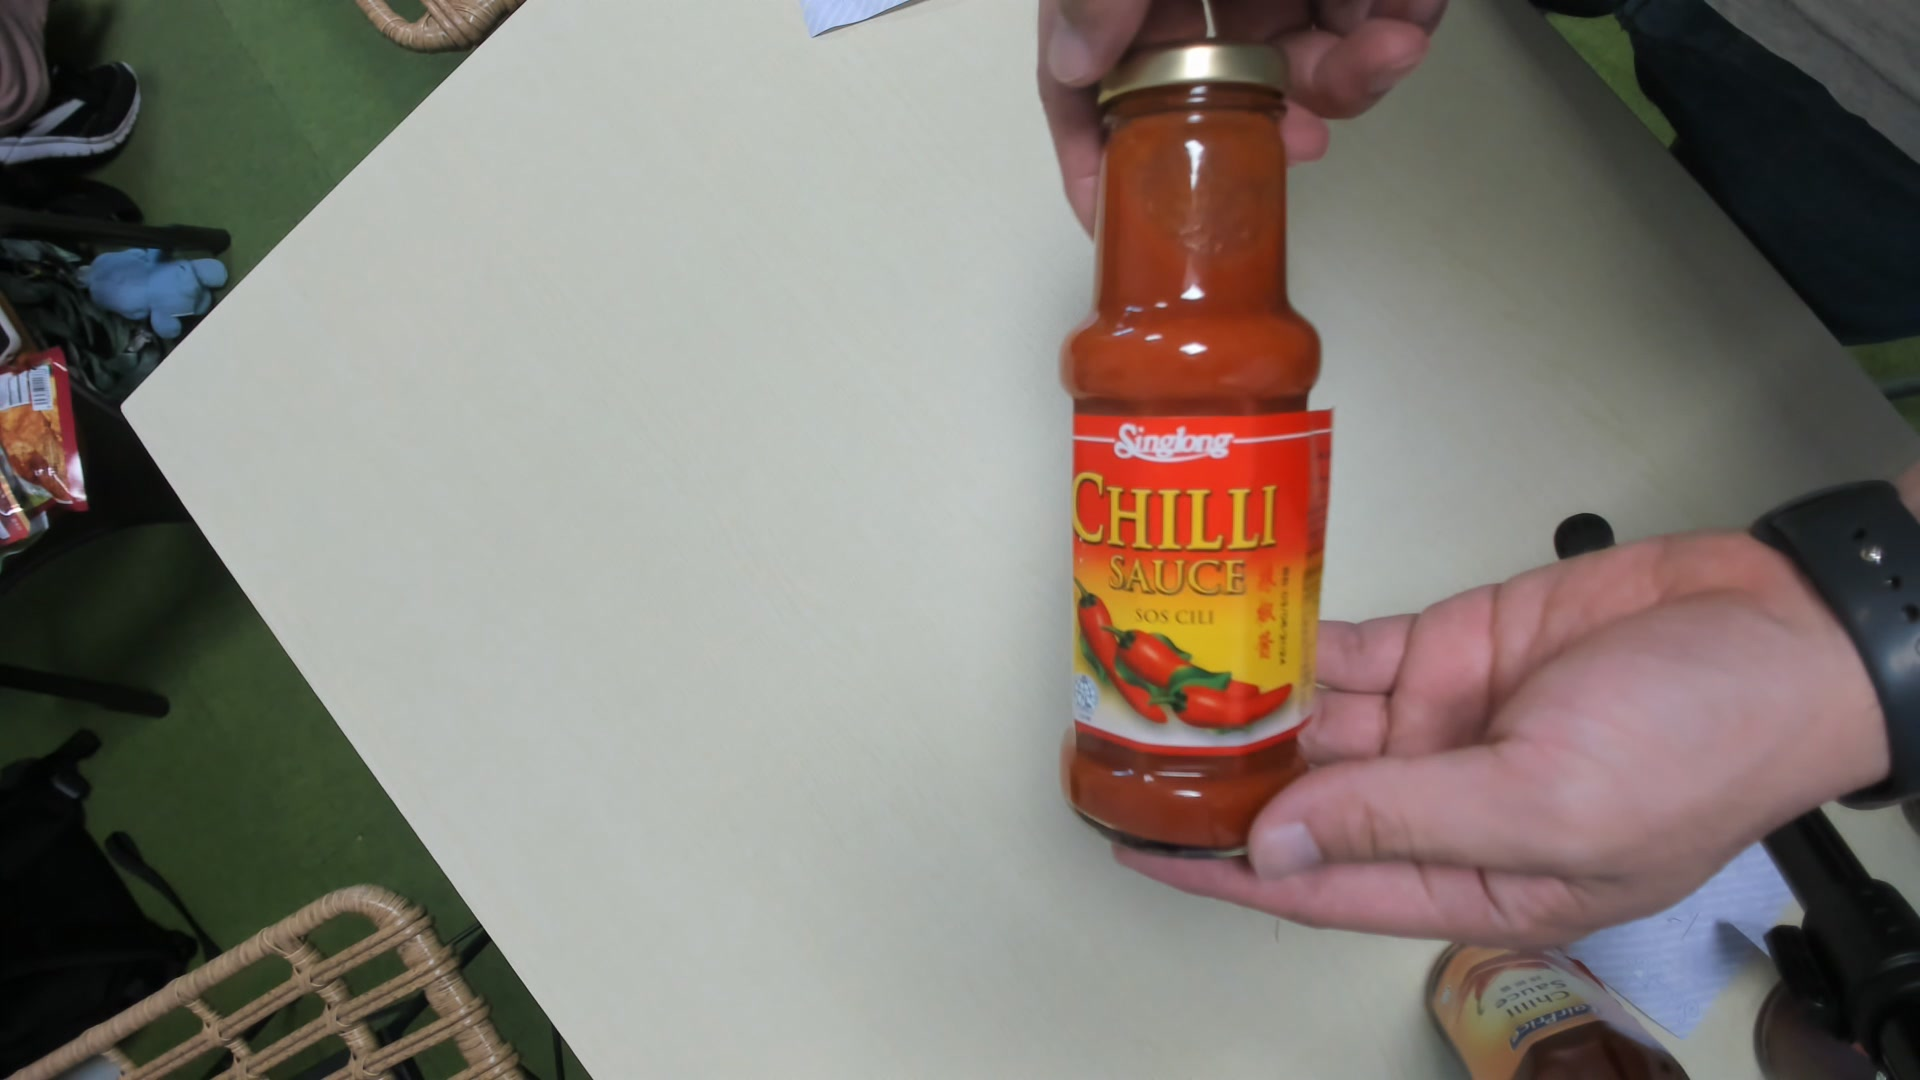KetchupChillSauce_200-299g_Halal_NonHealthy: (1060, 40, 1323, 866)
